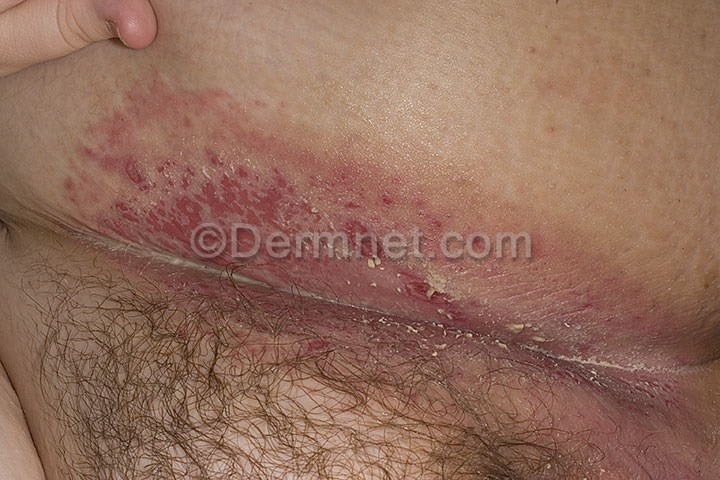Psoriasis: (97, 89, 653, 369)
